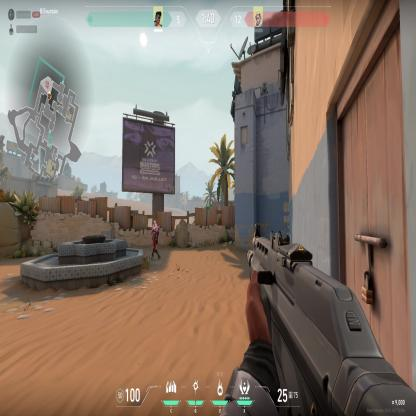enemy: (150, 219, 162, 261)
